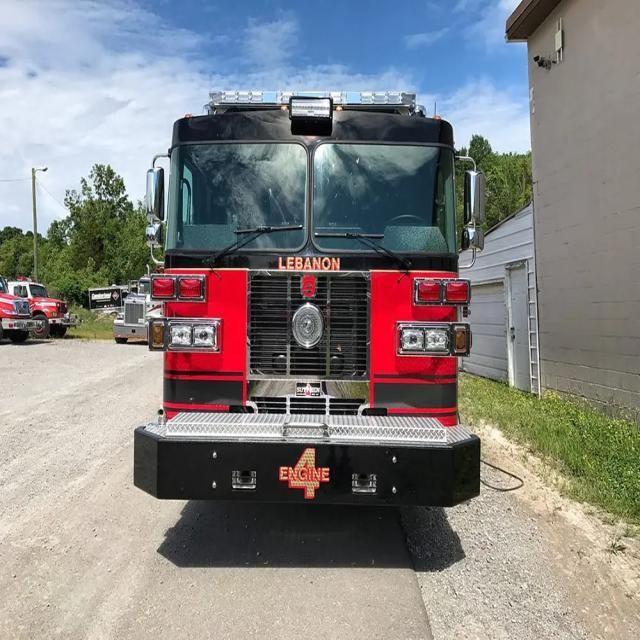Fire-engine: (131, 88, 486, 508)
